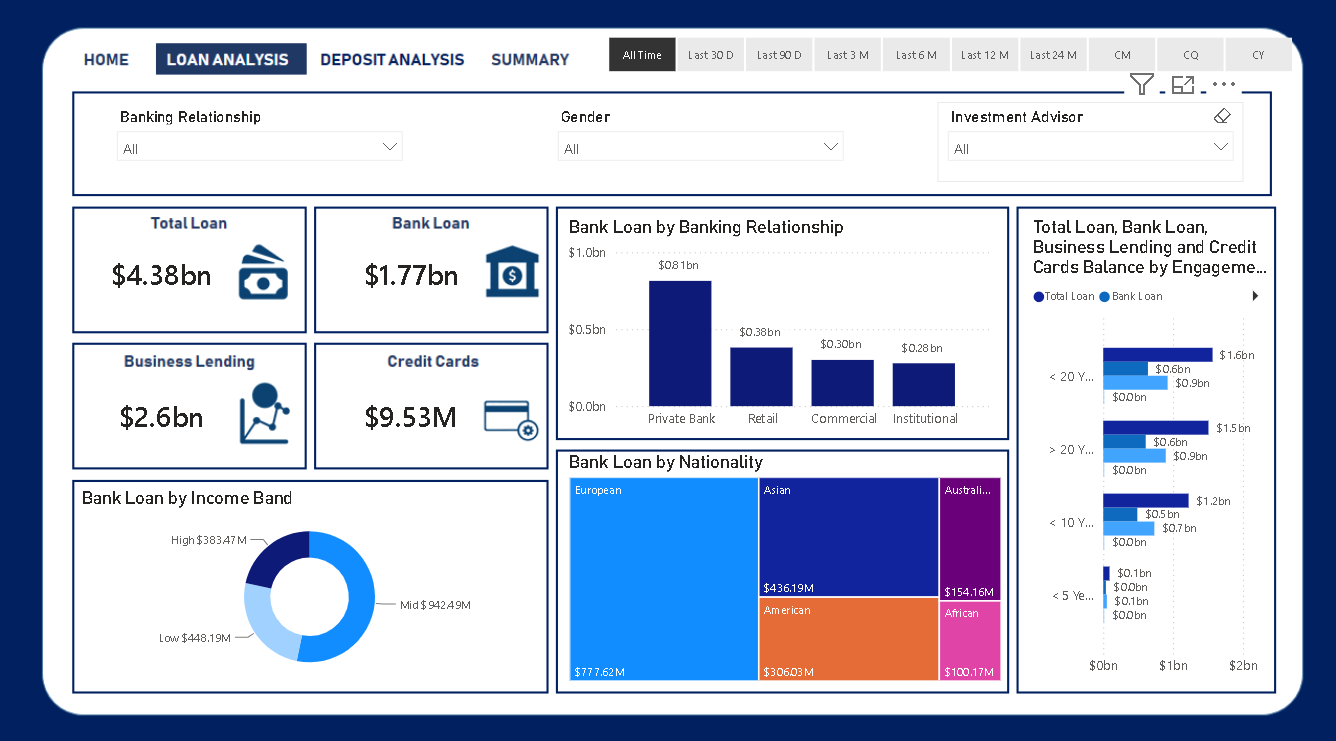

The dashboard page shown, as its layout file describes it:
{"tool":"powerbi","page":{"name":"Loan Analysis","canvas":[1280,720],"ordinal":1},"visuals":[{"type":"card","fields":{"Values":["DAX Measures.Total Loan"]},"box":[72.7,224,161.8,90.3],"z":0},{"type":"card","fields":{"Values":["DAX Measures.Bank Loan"]},"box":[307.2,224,172.4,89.1],"z":1000},{"type":"card","fields":{"Values":["DAX Measures.Credit Cards"]},"box":[307.2,360,171.2,89.1],"z":2000},{"type":"card","fields":{"Values":["DAX Measures.Business Lending"]},"box":[72.7,360,161.8,89.1],"z":3000},{"type":"slicer","fields":{"Values":["Banking Relationship.Banking Relationship"]},"box":[102.3,103.4,292.9,75.7],"z":4000},{"type":"slicer","fields":{"Values":["Gender.Gender"]},"box":[522.7,103.4,292.9,75.7],"z":5000},{"type":"slicer","fields":{"Values":["Investment Advisor.Investment Advisor"]},"box":[895,103.4,292.9,75.7],"z":6000},{"type":"donutChart","fields":{"Category":["Clients - Banking.Income Band"],"Y":["DAX Measures.Bank Loan"]},"box":[72.7,471.4,444.4,188.8],"z":7000},{"type":"clusteredBarChart","fields":{"Category":["Clients - Banking.Engagement Timeframe"],"Y":["DAX Measures.Total Loan","DAX Measures.Bank Loan","DAX Measures.Business Lending","DAX Measures.Credit Cards"]},"box":[981.5,212.2,236.9,447.9],"z":8000},{"type":"treemap","fields":{"Group":["Clients - Banking.Nationality"],"Values":["DAX Measures.Bank Loan"]},"box":[538.2,436.2,422.1,224],"z":9000},{"type":"lineClusteredColumnComboChart","fields":{"Category":["Banking Relationship.Banking Relationship"],"Y":["DAX Measures.Bank Loan"]},"box":[538.2,212.2,411.6,212.2],"z":10000},{"type":"slicer","fields":{"Values":["Period.Name"]},"box":[555.2,34.6,702.1,46.6],"z":11000},{"type":"actionButton","box":[72.8,44.2,58.5,31],"z":12000},{"type":"actionButton","box":[306.9,44.7,119.4,31],"z":13000},{"type":"actionButton","box":[471.6,44.2,83.6,31],"z":14000}]}

Visuals, with their boxes in screenshot pixels (x1, y1, x2, y2), scaled from the page's 1280x720 canvas onto the 1336x741 screenshot:
card - DAX Measures.Total Loan: select_region(76, 231, 245, 323)
card - DAX Measures.Bank Loan: select_region(321, 231, 501, 322)
card - DAX Measures.Credit Cards: select_region(321, 370, 499, 462)
card - DAX Measures.Business Lending: select_region(76, 370, 245, 462)
slicer - Banking Relationship.Banking Relationship: select_region(107, 106, 412, 184)
slicer - Gender.Gender: select_region(546, 106, 851, 184)
slicer - Investment Advisor.Investment Advisor: select_region(934, 106, 1240, 184)
donutChart - Clients - Banking.Income Band x DAX Measures.Bank Loan: select_region(76, 485, 540, 679)
clusteredBarChart - Clients - Banking.Engagement Timeframe x DAX Measures.Total Loan: select_region(1024, 218, 1272, 679)
treemap - Clients - Banking.Nationality x DAX Measures.Bank Loan: select_region(562, 449, 1002, 679)
lineClusteredColumnComboChart - Banking Relationship.Banking Relationship x DAX Measures.Bank Loan: select_region(562, 218, 991, 437)
slicer - Period.Name: select_region(579, 36, 1312, 84)
actionButton: select_region(76, 45, 137, 77)
actionButton: select_region(320, 46, 445, 78)
actionButton: select_region(492, 45, 579, 77)
